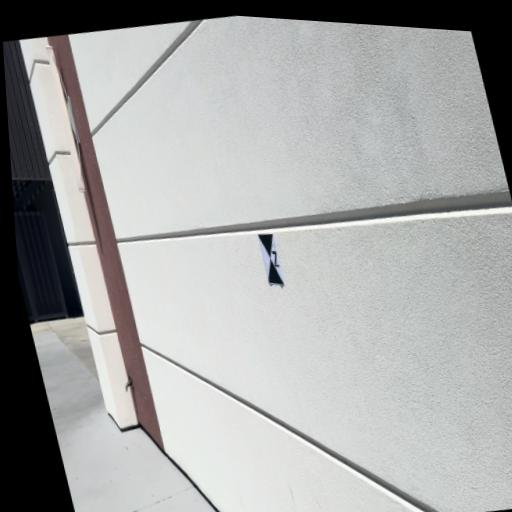target7: (258, 233, 285, 285)
